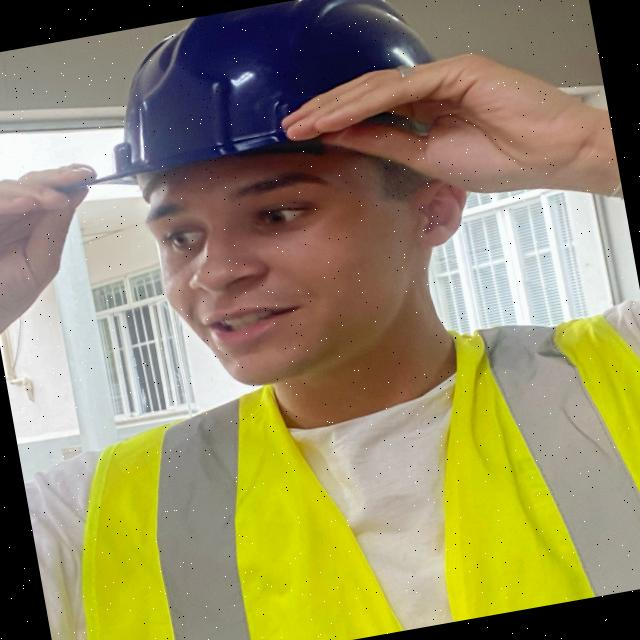CAPACETE: (79, 0, 484, 197)
COLETE: (72, 372, 424, 640), (426, 291, 640, 622)
SEM LUVA: (266, 59, 617, 205), (0, 158, 95, 345)
